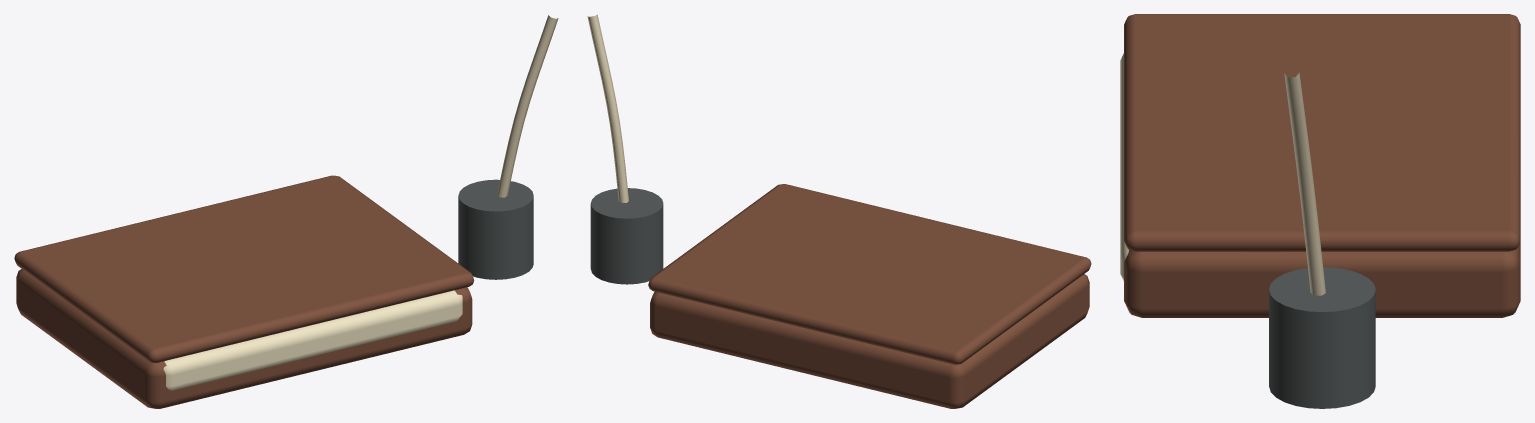
The model's file is adventurers-tavern-and-guild-hall-ledger-and-quill-8b0fcf27__24736.glb.
The picture shows the model from 3 angles, left to right: view 1: azimuth 30°, elevation 25°; view 2: azimuth 150°, elevation 25°; view 3: azimuth 270°, elevation 25°; orthographic projection. The views are drawn at different scales.
Visible parts, largest first — view 1: ledger-and-quill; view 2: ledger-and-quill; view 3: ledger-and-quill.
Part boxes in pixels (bbox=[...]): ledger-and-quill: bbox=[14, 15, 558, 408]; ledger-and-quill: bbox=[587, 14, 1091, 408]; ledger-and-quill: bbox=[1120, 14, 1520, 408].
Size of the model in its own units: 0.4992 by 0.2515 by 0.2625.
